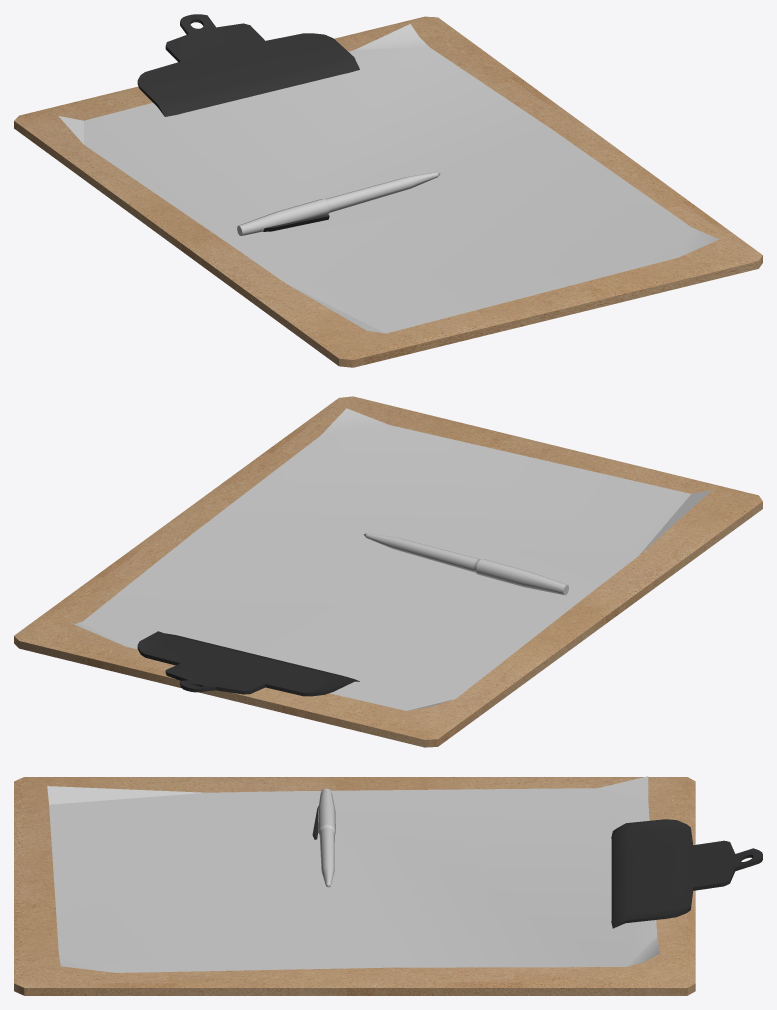
The model's file is Clipboard_Triage.FBX.
3 renders of one model, top to bottom at view 1: azimuth 30°, elevation 25°; view 2: azimuth 150°, elevation 25°; view 3: azimuth 270°, elevation 25°, orthographic. The views are drawn at different scales.
Parts seen in each view (by area): view 1: ClipboardTriage; view 2: ClipboardTriage; view 3: ClipboardTriage.
Part boxes in pixels (<box>): ClipboardTriage: <box>14,14,762,367</box>; ClipboardTriage: <box>14,396,762,747</box>; ClipboardTriage: <box>14,776,762,995</box>.
Bounding box in the file's own units: 9.75 × 0.7825 × 14.61.
